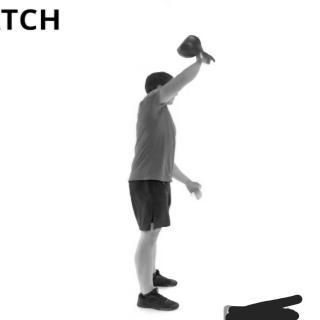kettlebell: (164, 31, 227, 69)
